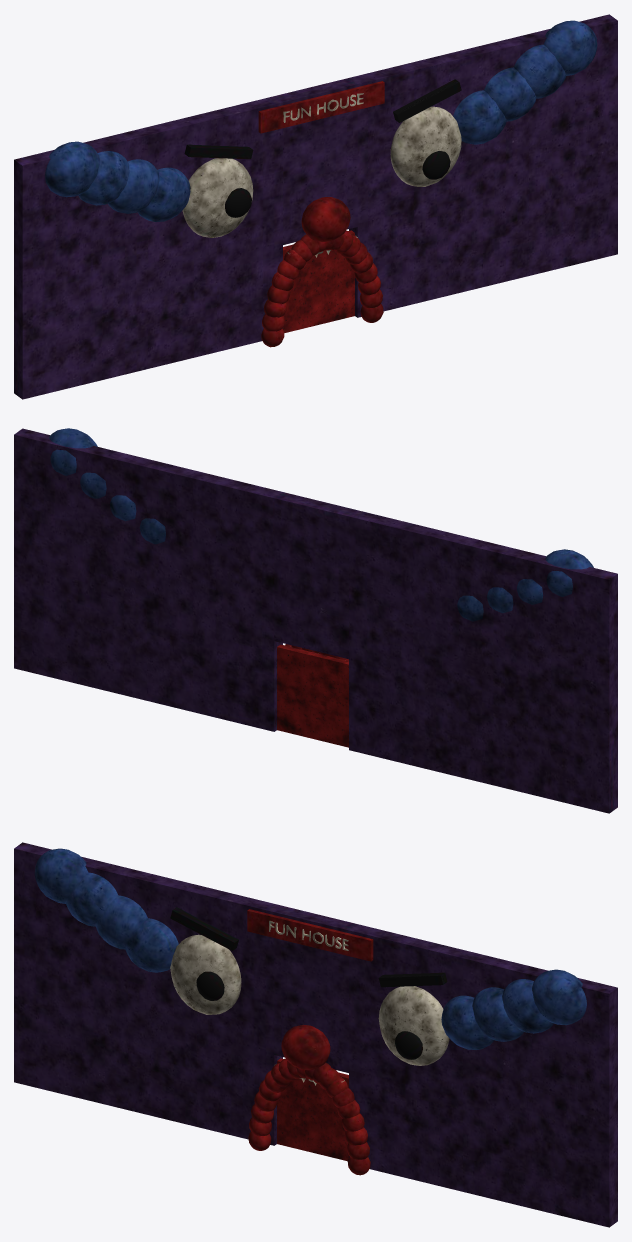
Rendered from funhouse.glb.
3 views of the same model, one above another, from view 1: azimuth 30°, elevation 25°; view 2: azimuth 150°, elevation 25°; view 3: azimuth 330°, elevation 25° (orthographic).
Visible parts, largest first — view 1: Main, Jaw; view 2: Main, Jaw; view 3: Main, Jaw.
Boxes of the visible parts, x1,y1,x2,y2 form: Main: (14,14,617,399); Jaw: (283,230,354,333); Main: (14,428,617,813); Jaw: (277,644,348,747); Main: (14,842,617,1227); Jaw: (277,1058,348,1161).
Size of the model in its own units: 24 by 9.62 by 1.8.
2 materials, 2 textured.
